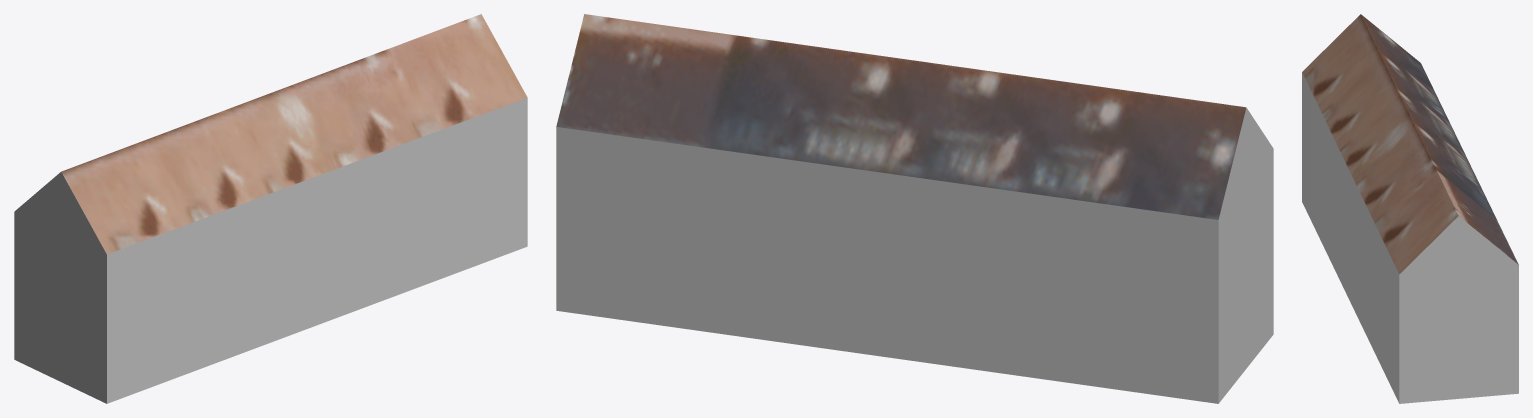
The model's file is DEBW_0010007TvkO.gltf.
3 renders of one model, left to right at view 1: azimuth 30°, elevation 25°; view 2: azimuth 150°, elevation 25°; view 3: azimuth 270°, elevation 25°, orthographic. The views are drawn at different scales.
Parts seen in each view (by area): view 1: Z_UP; view 2: Z_UP; view 3: Z_UP.
Boxes of the visible parts, <box> form: Z_UP: <box>14,14,527,403</box>; Z_UP: <box>556,14,1273,403</box>; Z_UP: <box>1302,14,1518,403</box>.
Size of the model in its own units: 41.17 by 16.54 by 17.78.
Materials: 2 (1 with a texture image).
